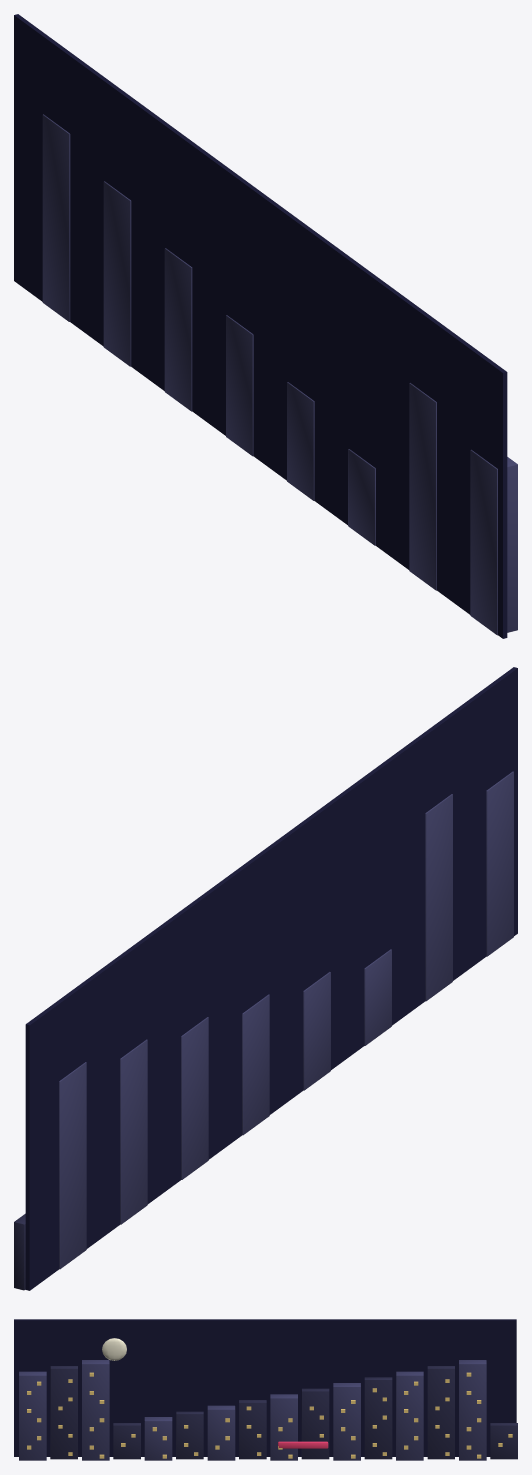
The model's file is BackdropClub.fbx.
3 renders of one model, top to bottom at view 1: azimuth 30°, elevation 25°; view 2: azimuth 150°, elevation 25°; view 3: azimuth 270°, elevation 25°, orthographic. The views are drawn at different scales.
Visible parts, largest first — view 1: BackdropClub; view 2: BackdropClub; view 3: BackdropClub.
Boxes of the visible parts, x1,y1,x2,y2 form: BackdropClub: (14,14,517,638); BackdropClub: (14,667,517,1290); BackdropClub: (14,1319,517,1460).
Size of the model in its own units: 265 by 2400 by 8020.
